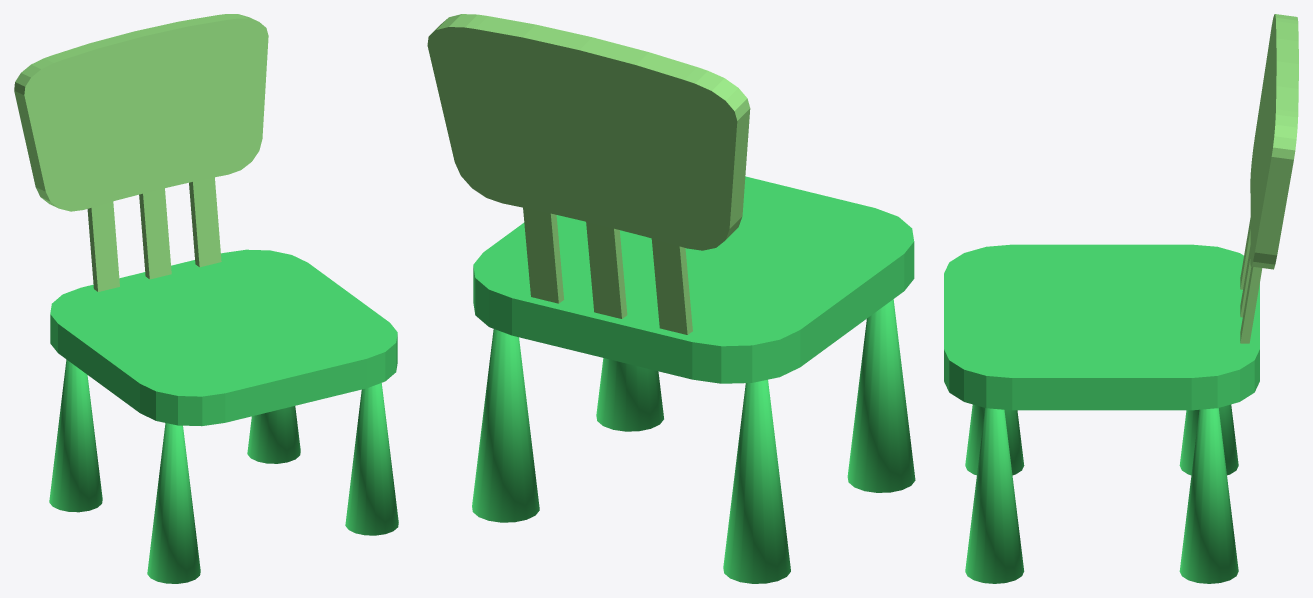
The model's file is Chair.fbx.
3 views of the same model, side by side, from view 1: azimuth 30°, elevation 25°; view 2: azimuth 150°, elevation 25°; view 3: azimuth 270°, elevation 25° (orthographic). The views are drawn at different scales.
Visible parts, largest first — view 1: 큐브, 큐브.004, 실린더, 큐브.001; view 2: 큐브.004, 큐브, 실린더, 큐브.001; view 3: 큐브, 실린더, 큐브.004, 큐브.001.
Boxes of the visible parts, <box> form: 큐브: <box>50,249,397,426</box>; 큐브.004: <box>14,14,268,211</box>; 실린더: <box>49,359,398,583</box>; 큐브.001: <box>87,177,221,291</box>; 큐브.004: <box>427,14,750,250</box>; 큐브: <box>473,176,914,383</box>; 실린더: <box>472,299,915,583</box>; 큐브.001: <box>523,207,692,334</box>; 큐브: <box>944,244,1259,410</box>; 실린더: <box>965,404,1238,583</box>; 큐브.004: <box>1250,14,1298,269</box>; 큐브.001: <box>1240,218,1262,343</box>.
Bounding box in the file's own units: 2 × 3.2 × 2.25.
